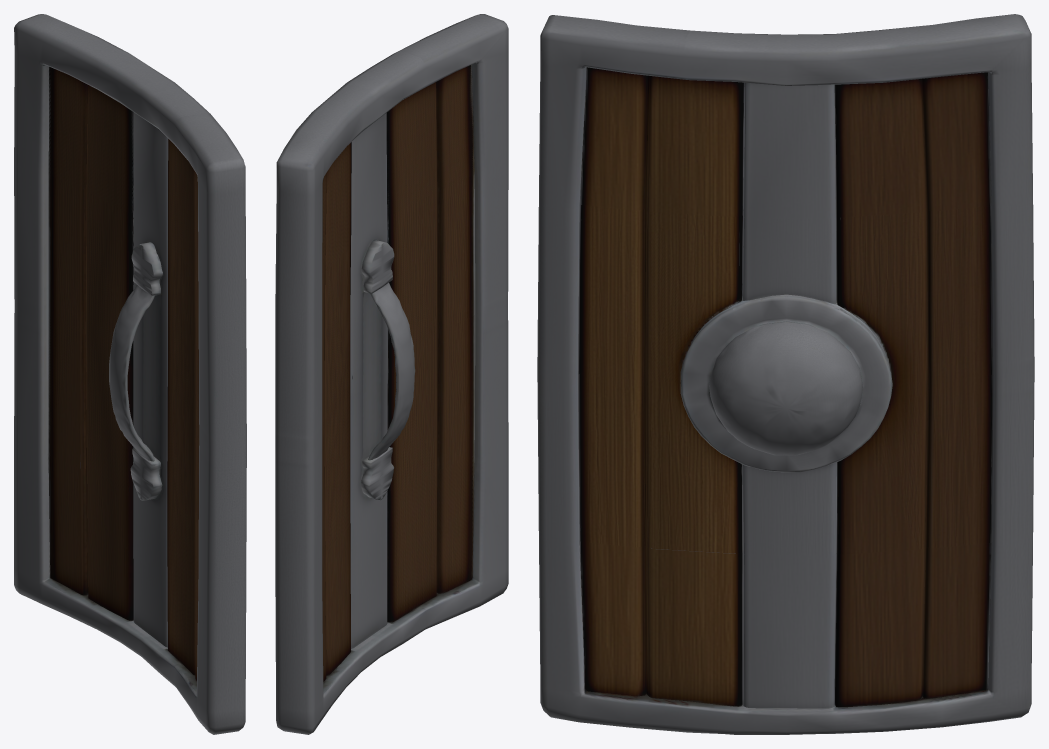
File: kite_shield.glb
3 renders of one model, left to right at view 1: azimuth 30°, elevation 25°; view 2: azimuth 150°, elevation 25°; view 3: azimuth 270°, elevation 25°, orthographic. The views are drawn at different scales.
Parts seen in each view (by area): view 1: tripo_node_55072ae9-9b7b-42a2-8de7-ca0cf3f3ef06; view 2: tripo_node_55072ae9-9b7b-42a2-8de7-ca0cf3f3ef06; view 3: tripo_node_55072ae9-9b7b-42a2-8de7-ca0cf3f3ef06.
Part boxes in pixels (x1=…): tripo_node_55072ae9-9b7b-42a2-8de7-ca0cf3f3ef06: x1=14, y1=14, x2=246, y2=734; tripo_node_55072ae9-9b7b-42a2-8de7-ca0cf3f3ef06: x1=275, y1=14, x2=508, y2=734; tripo_node_55072ae9-9b7b-42a2-8de7-ca0cf3f3ef06: x1=537, y1=14, x2=1034, y2=734.
Size of the model in its own units: 0.1895 by 0.998 by 0.6504.
1 material, 1 textured.
